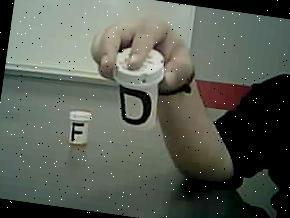Bottle D: (101, 41, 179, 135)
Bottle F: (59, 107, 96, 150)
